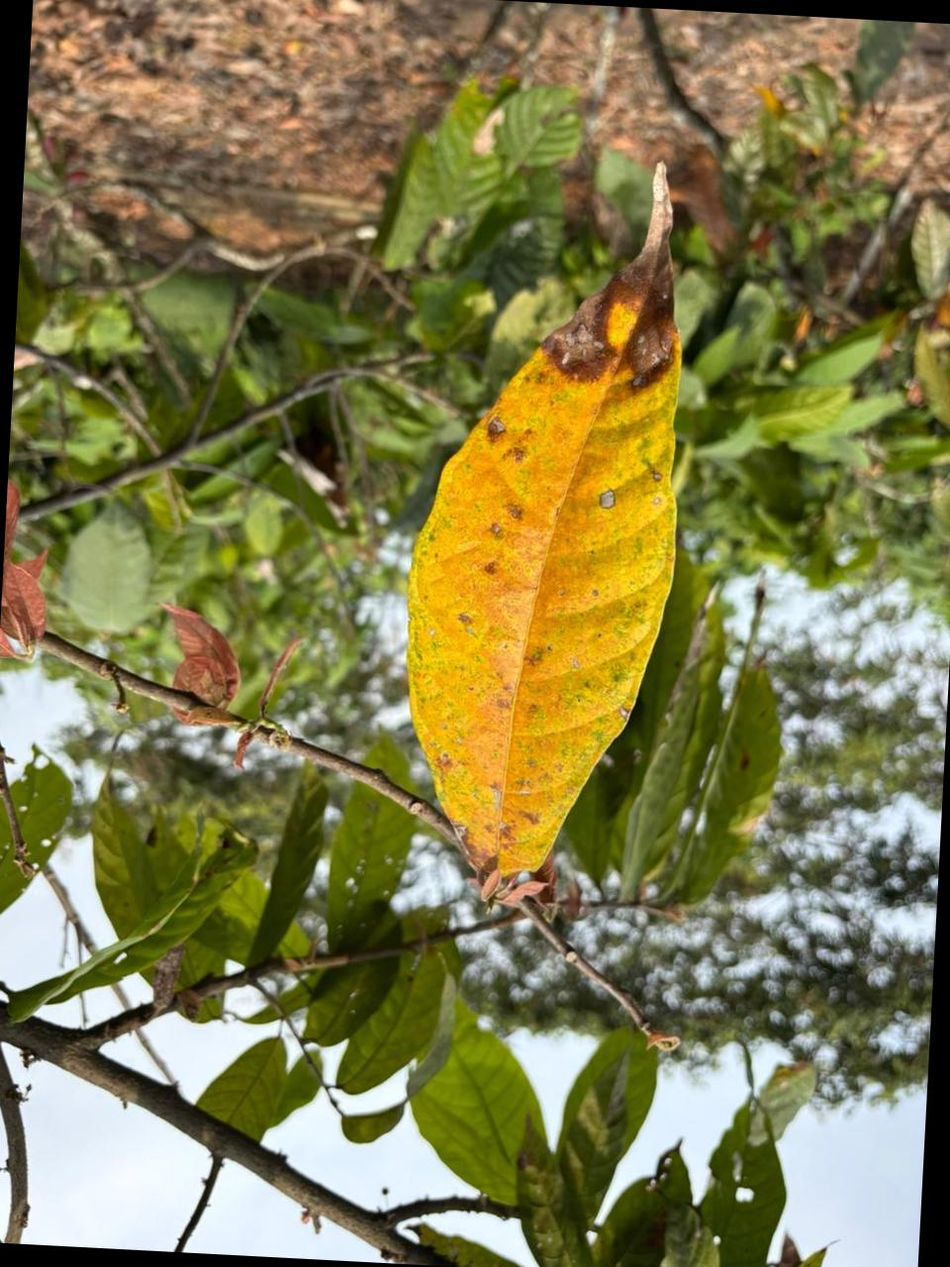Fosforo: (407, 165, 680, 877)
